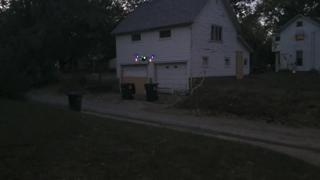UAV: (135, 54, 154, 66)
